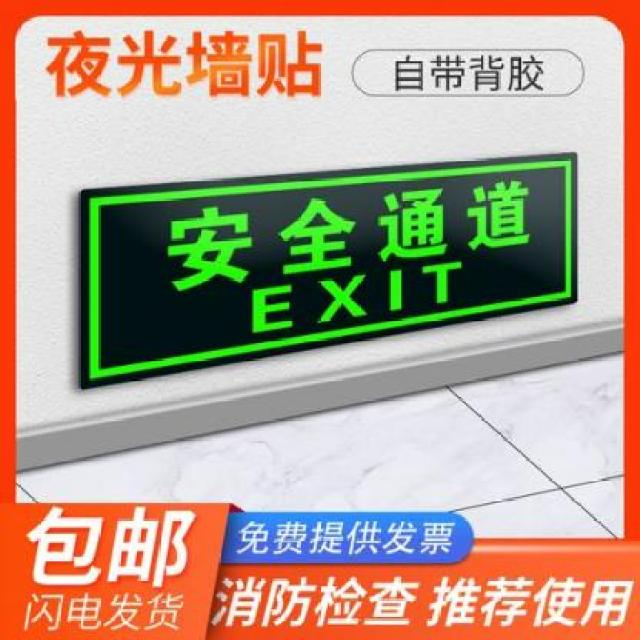exit_sign: (77, 169, 590, 377)
